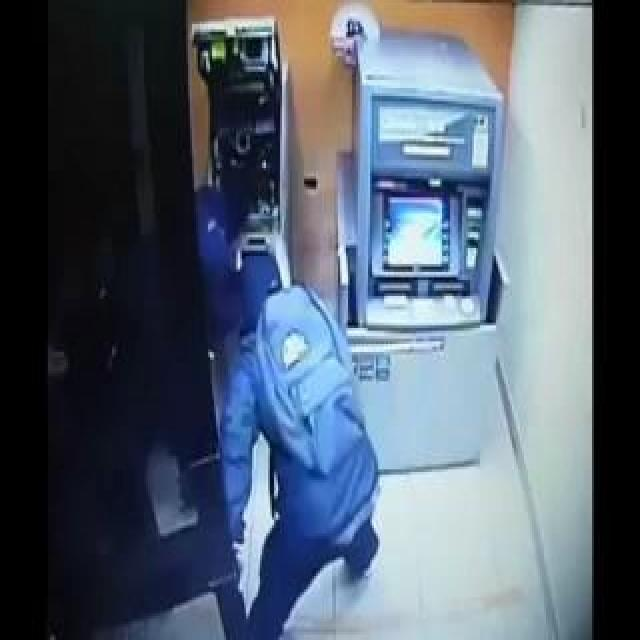thief: (165, 156, 320, 358)
